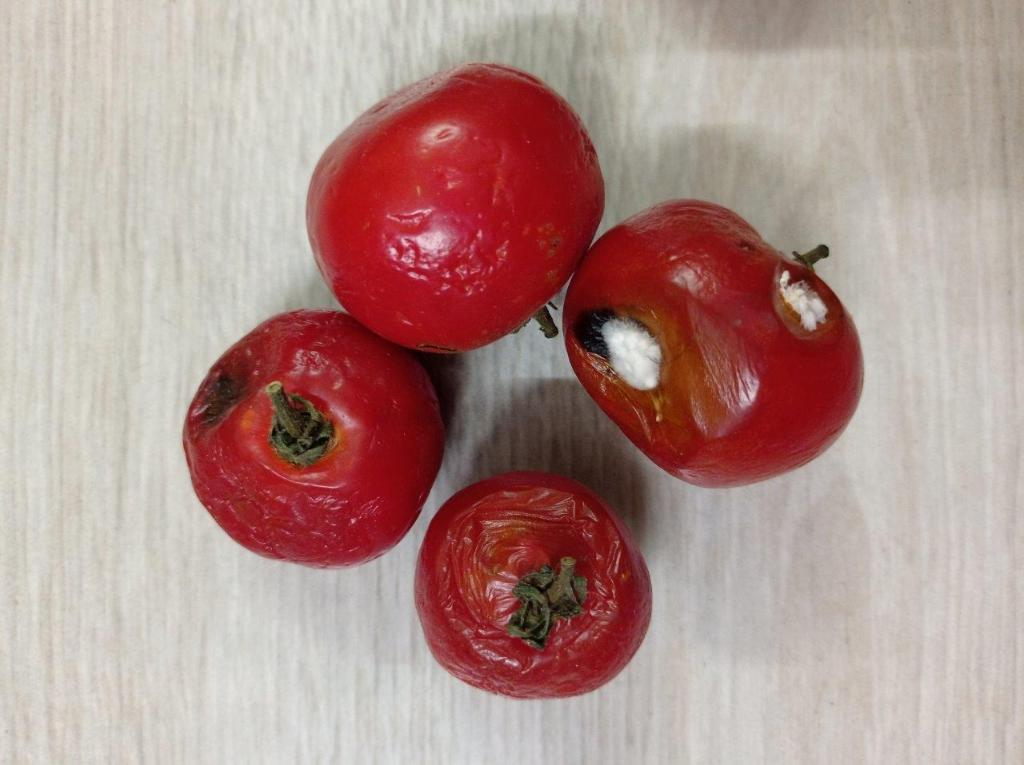bruise_discoloration: (597, 292, 756, 448), (770, 281, 838, 341), (461, 564, 506, 623), (481, 513, 535, 556)
rot_mold_decay: (603, 318, 661, 391), (779, 270, 829, 330), (571, 308, 617, 359), (206, 373, 239, 417)
tomato: (186, 64, 602, 567), (566, 201, 862, 487), (418, 474, 649, 698)
